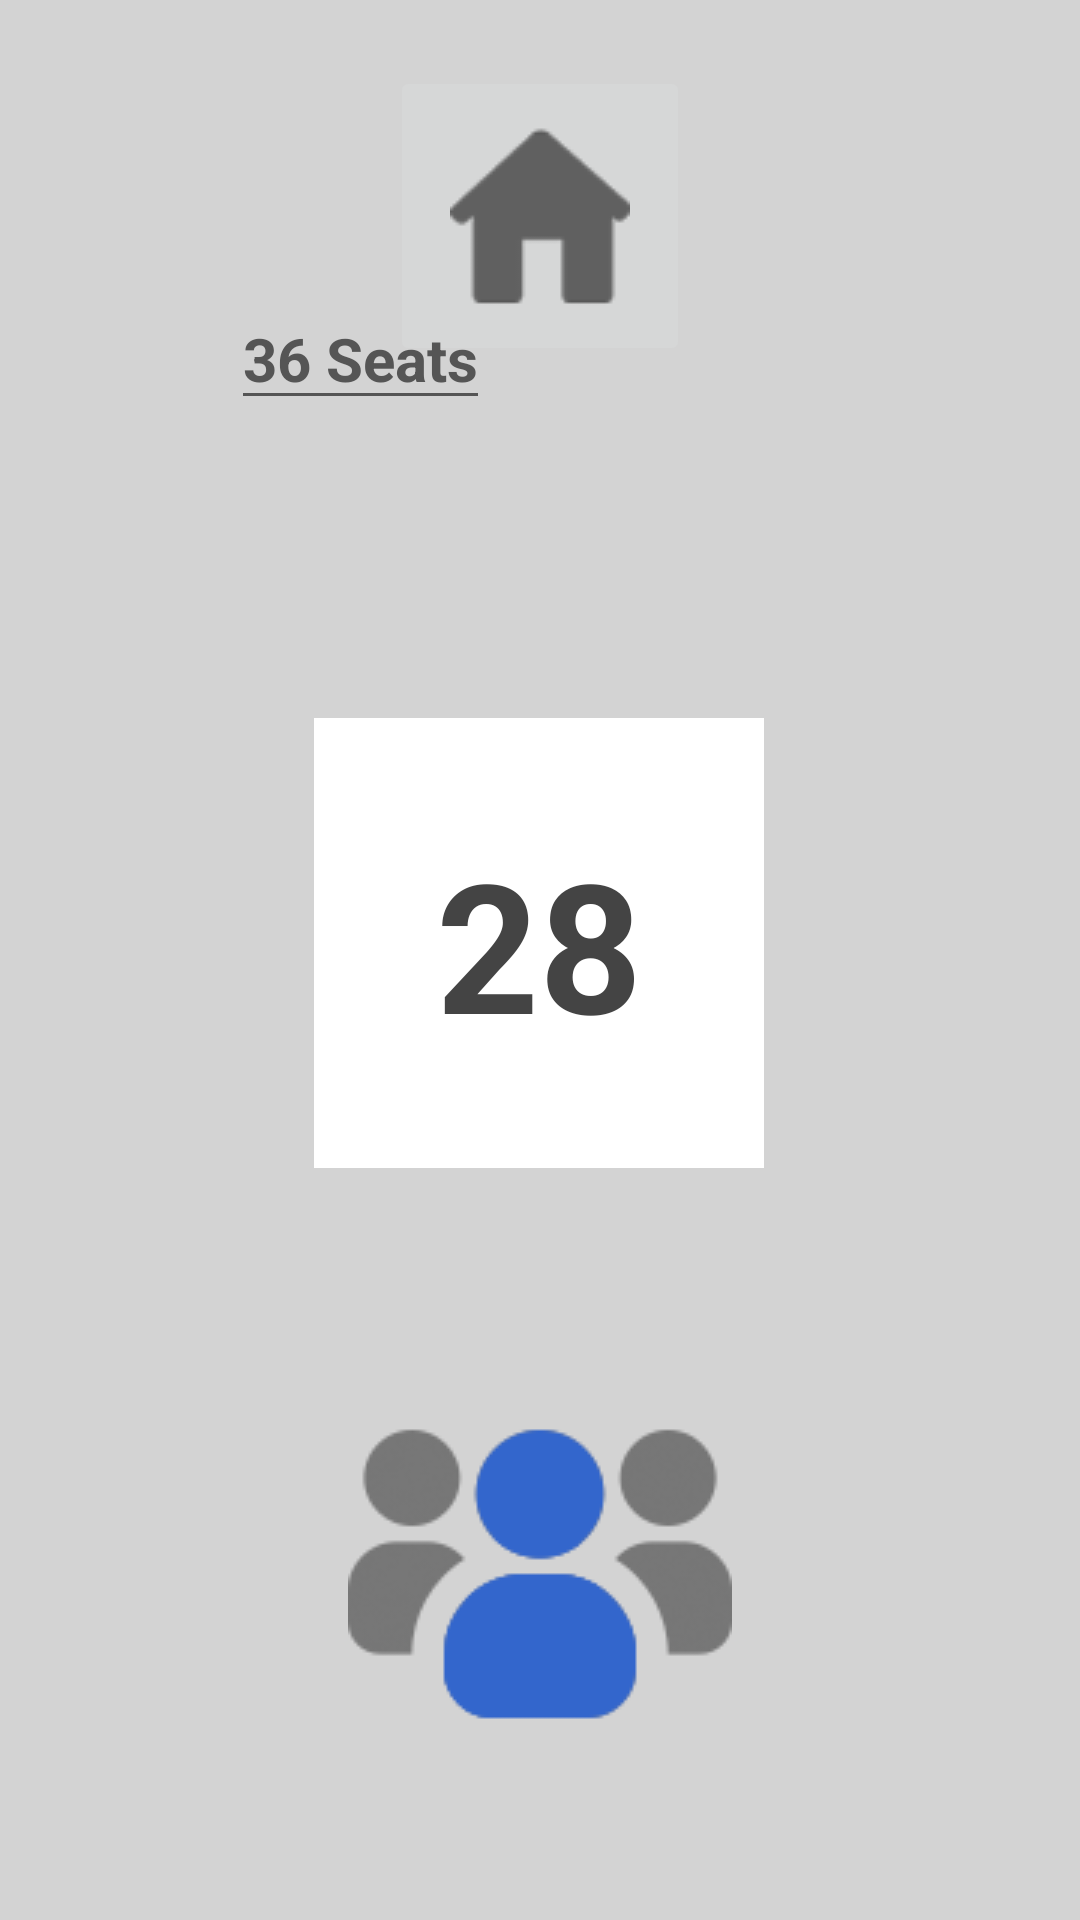

Screen size 1080px×1920px. Icon name, then its box in pixels as (x1, y1, x2, y2):
house: (450, 129, 630, 304)
